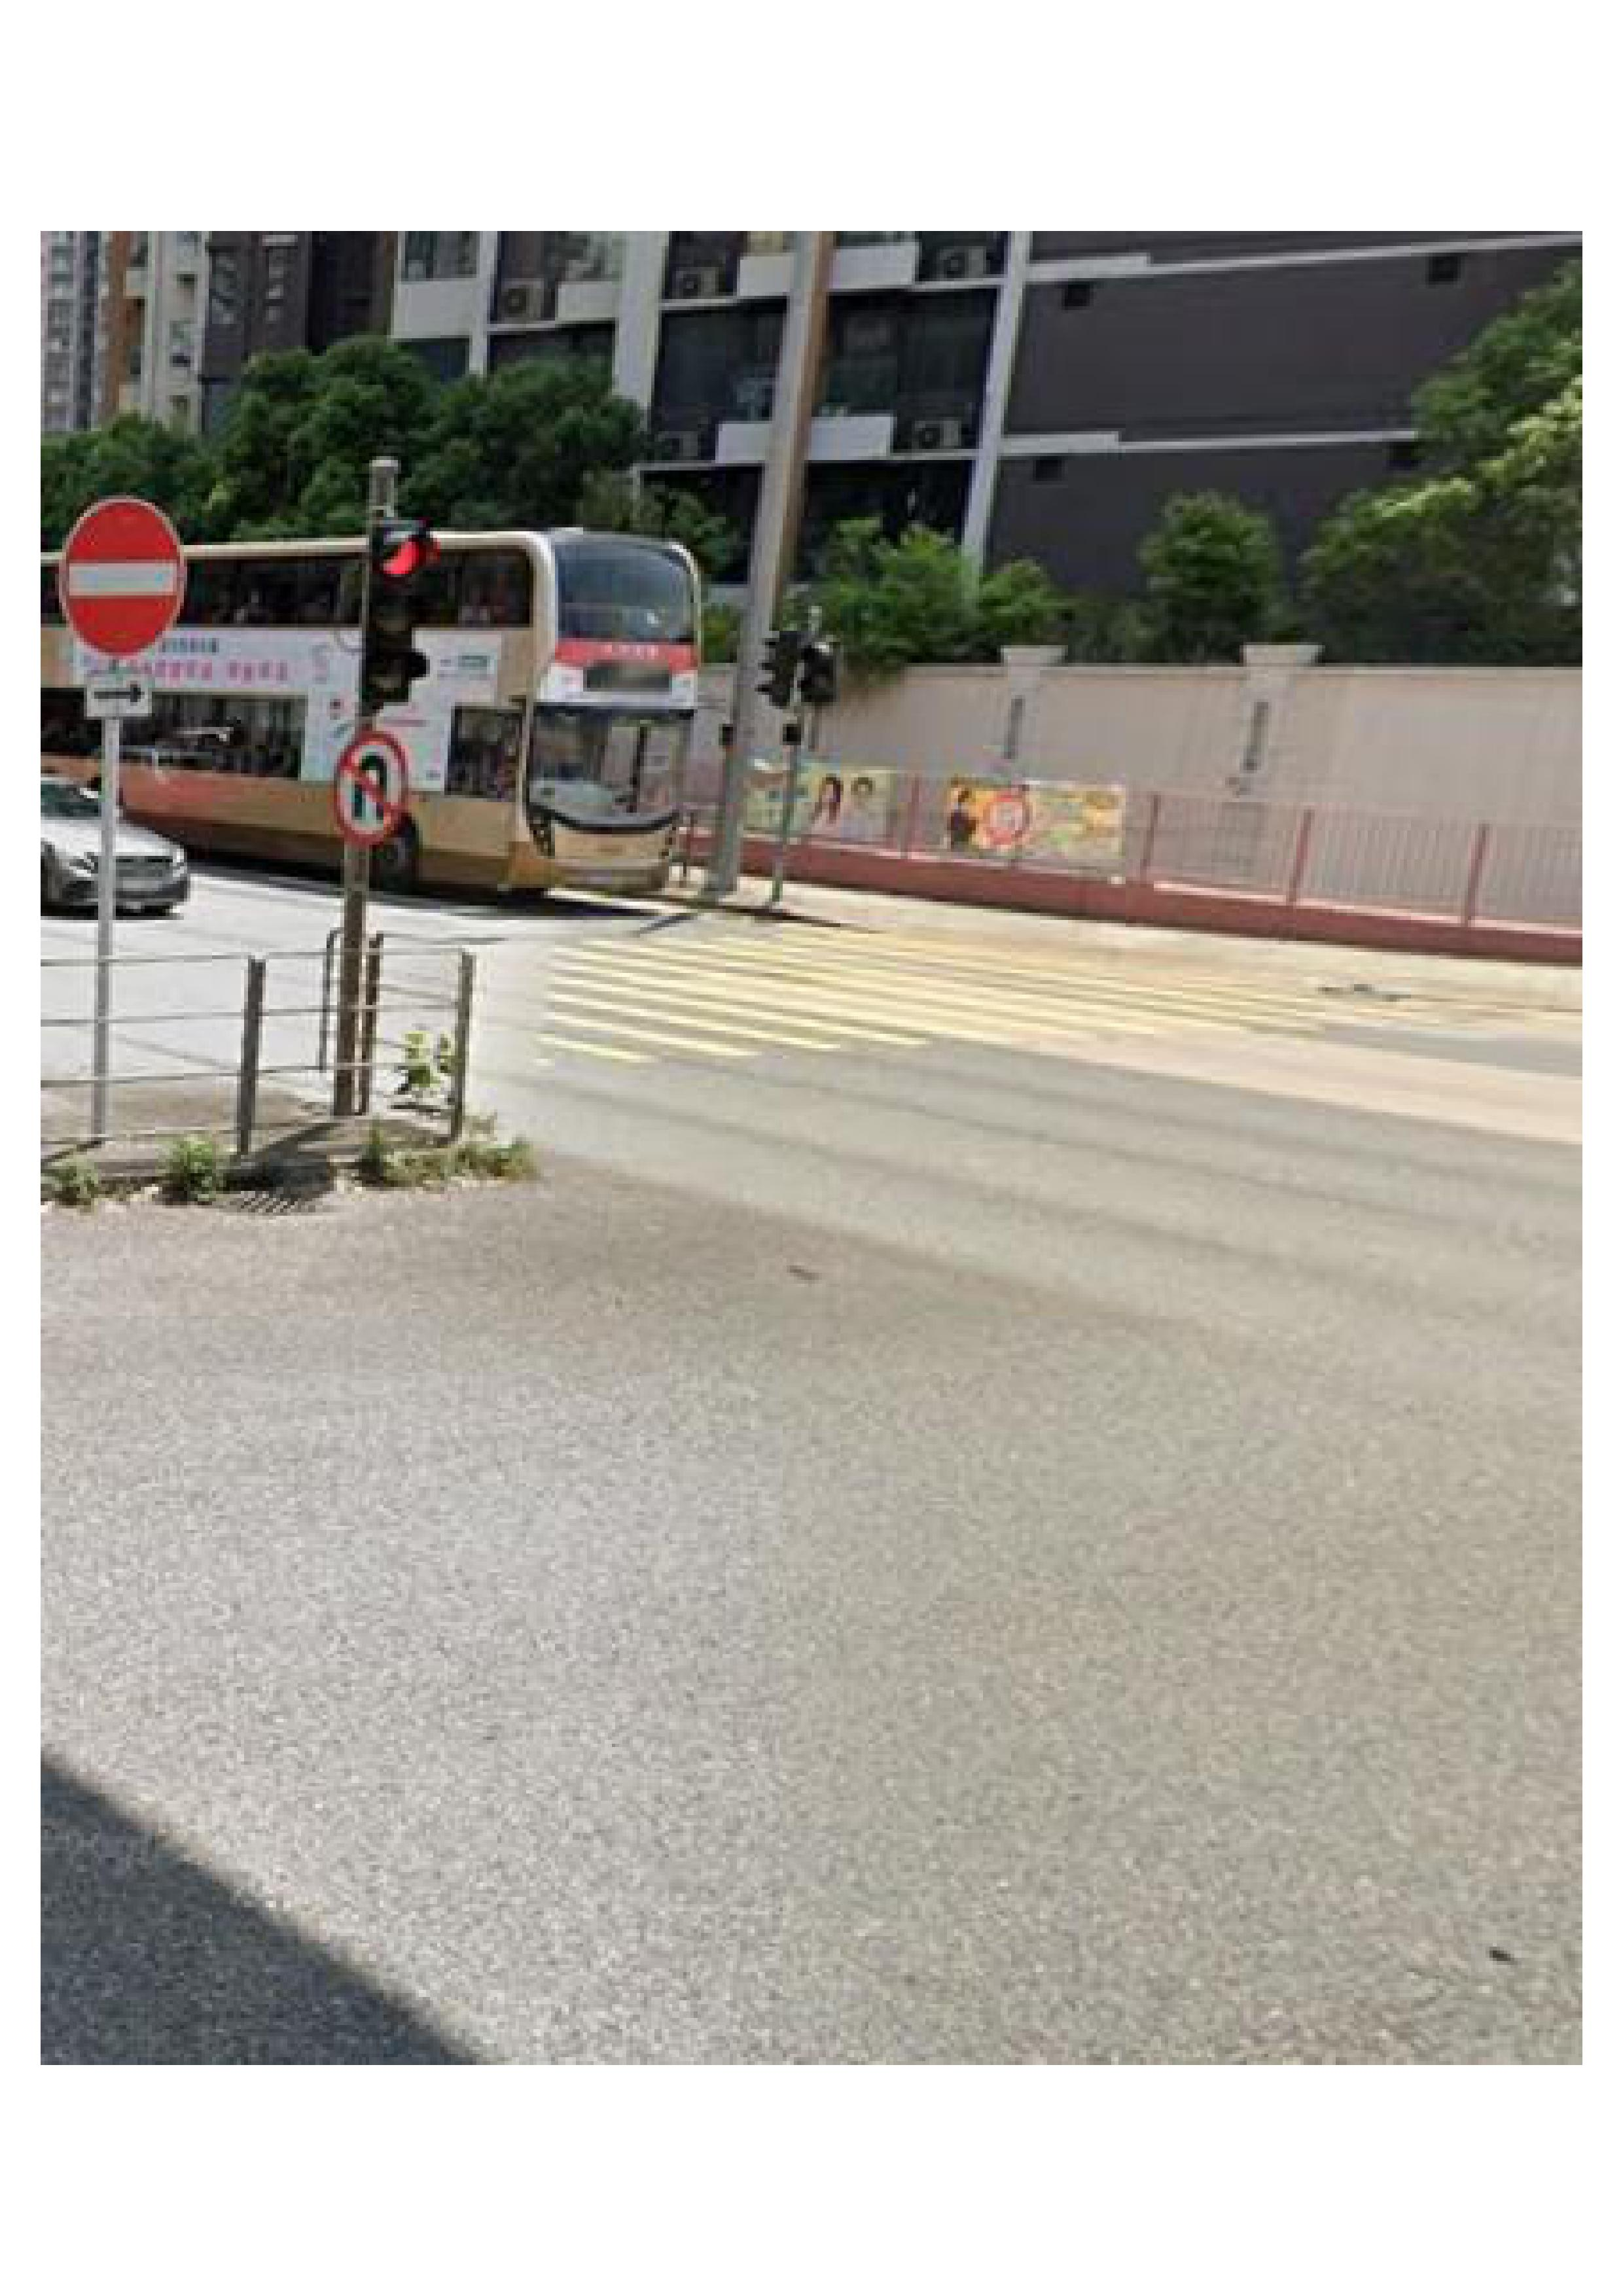No Uturn: (328, 737, 416, 850)
